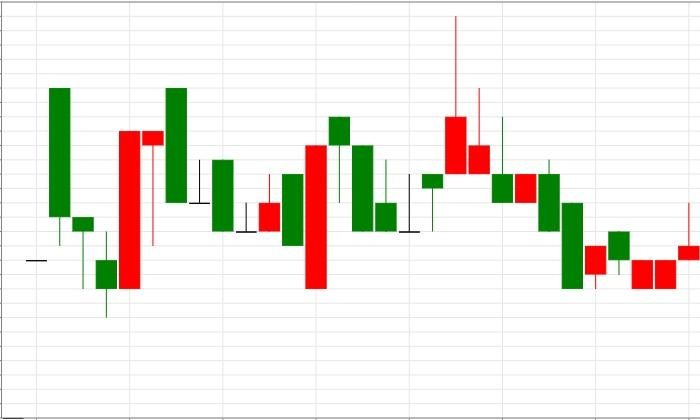bullish_engulfing_rise: (165, 87, 327, 289)
